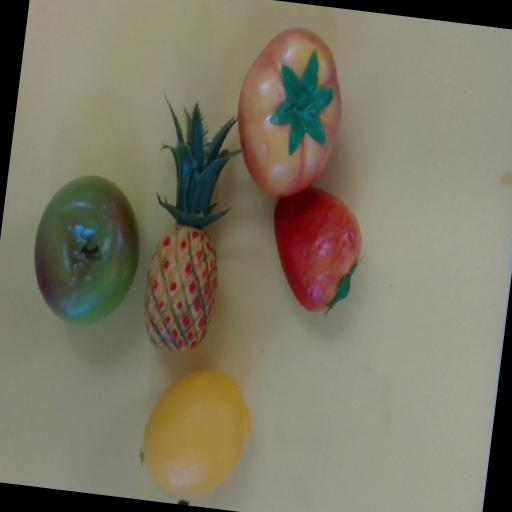apple: (31, 174, 142, 324)
lemon: (127, 354, 265, 510)
mango: (268, 180, 373, 319)
pineapple: (121, 97, 248, 356)
tomato: (230, 23, 348, 201)
